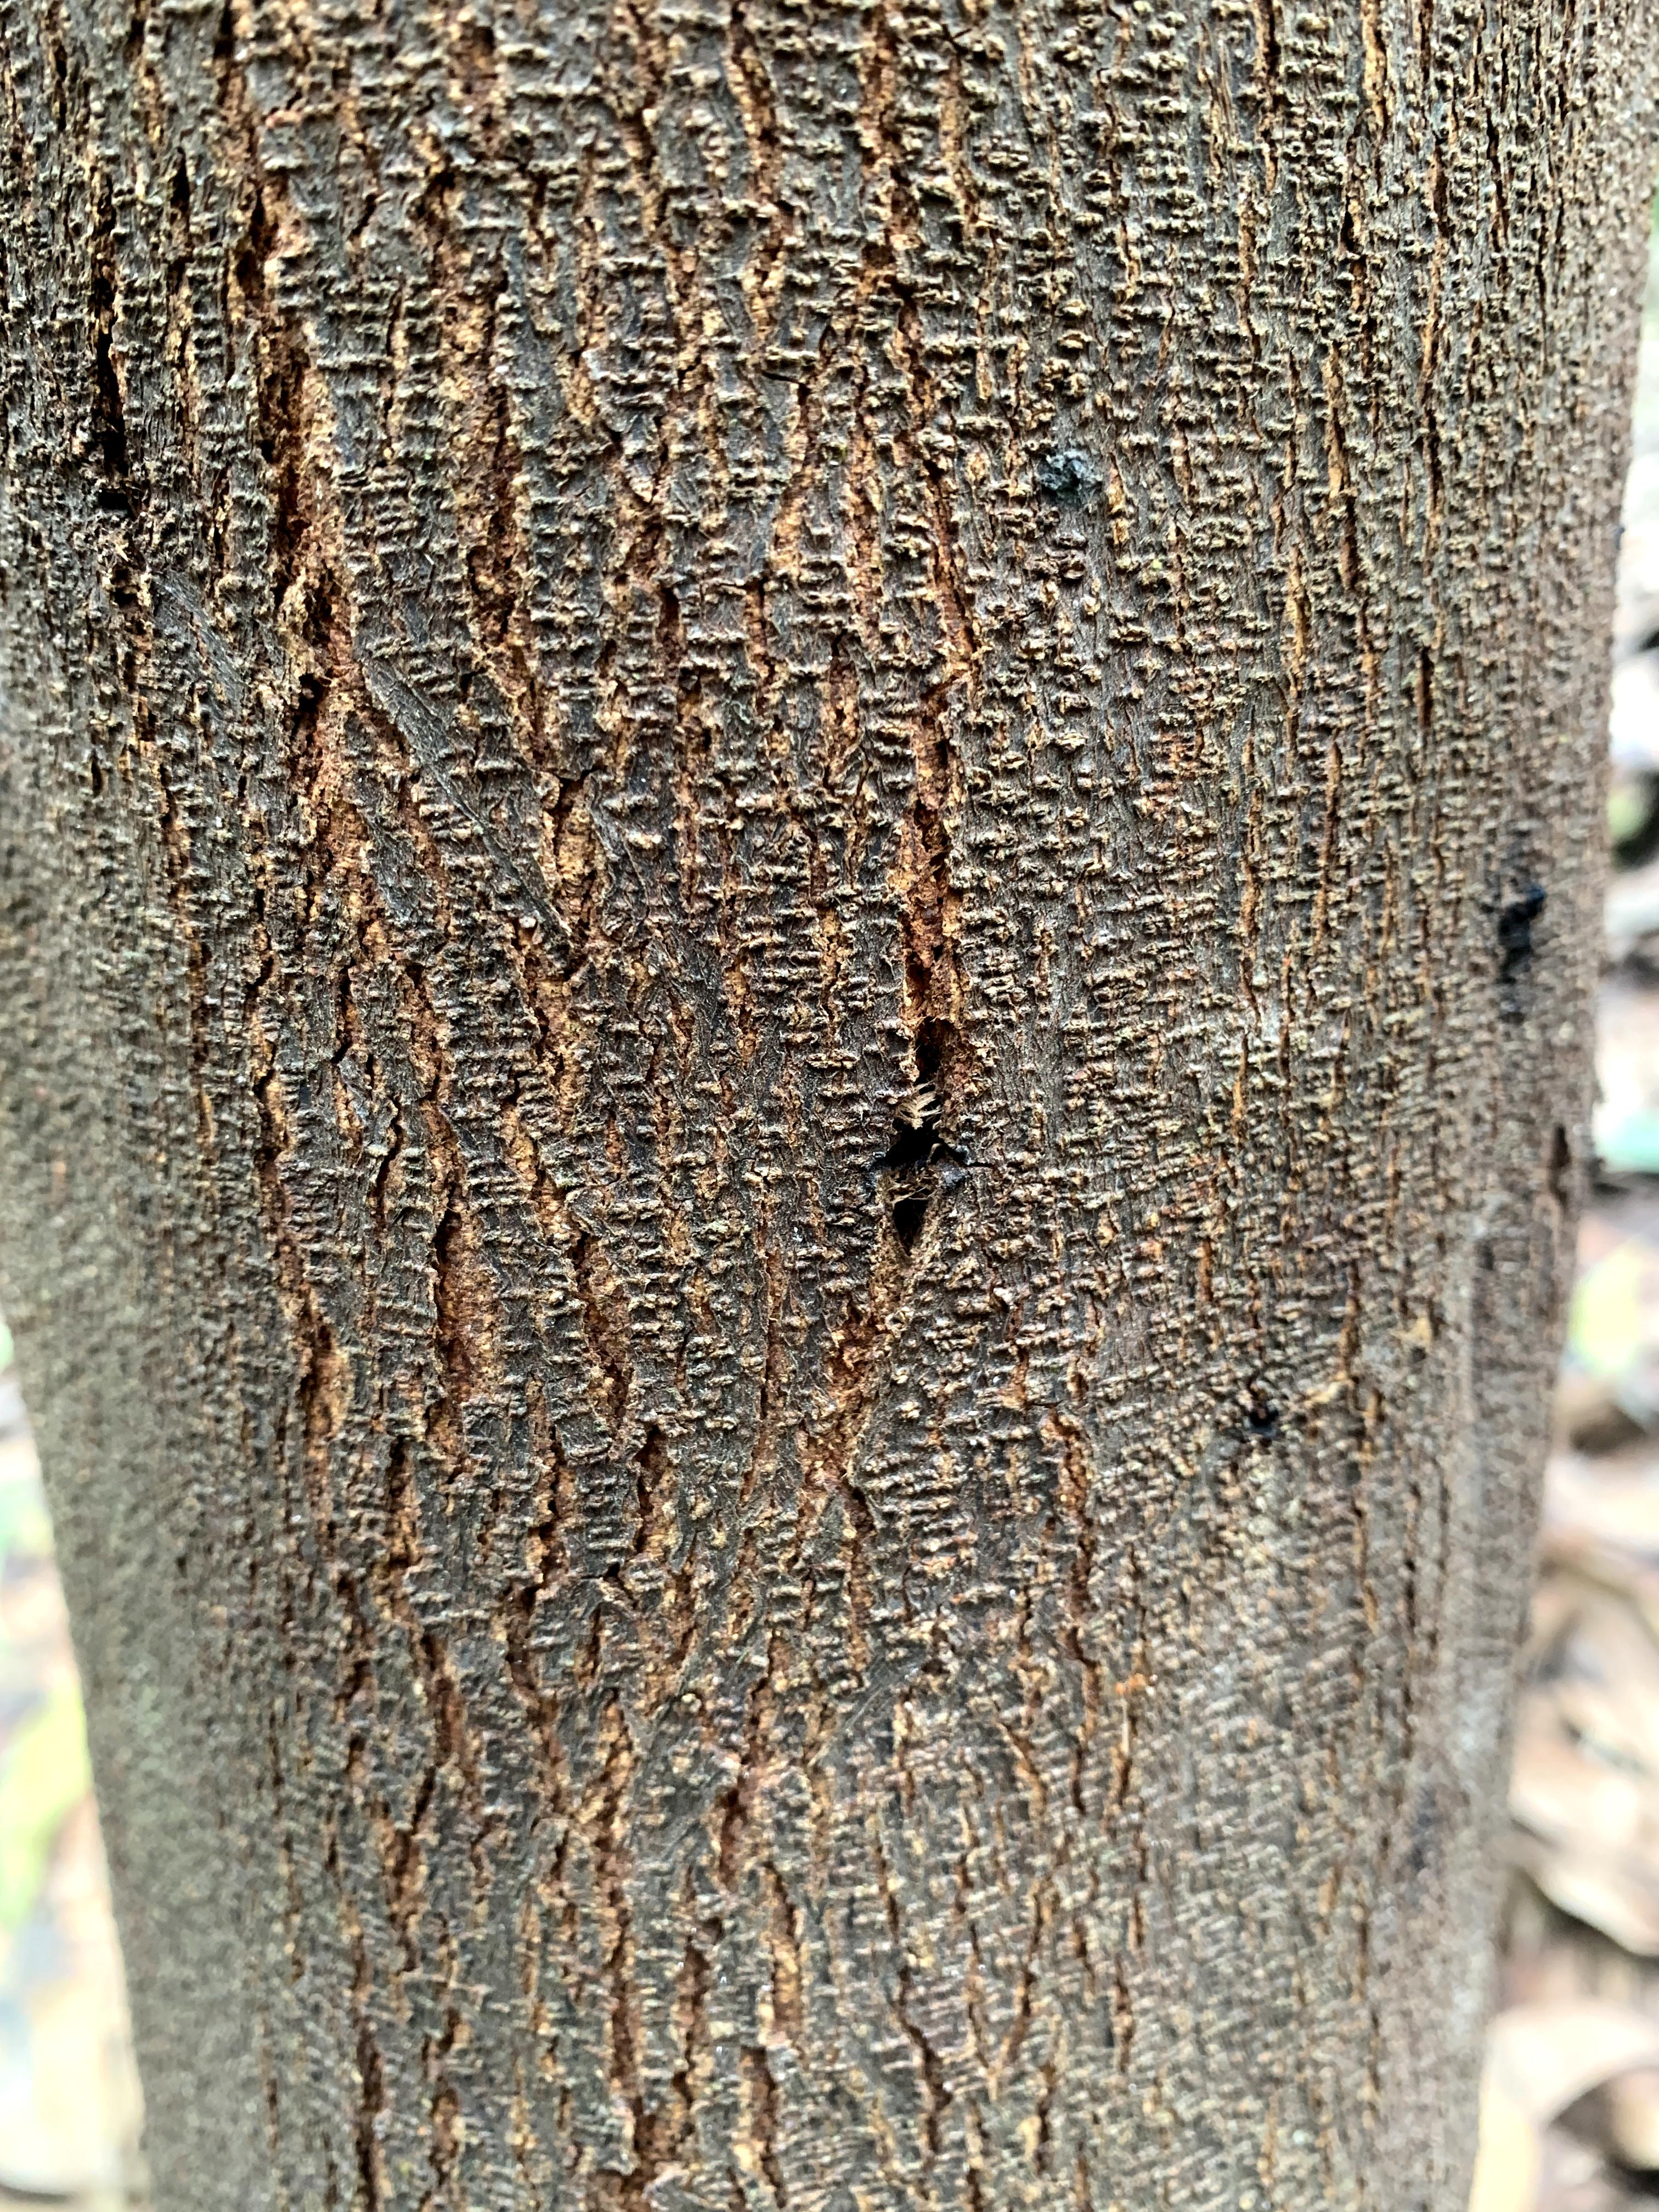Stem Borer: (805, 928, 1032, 1425)
